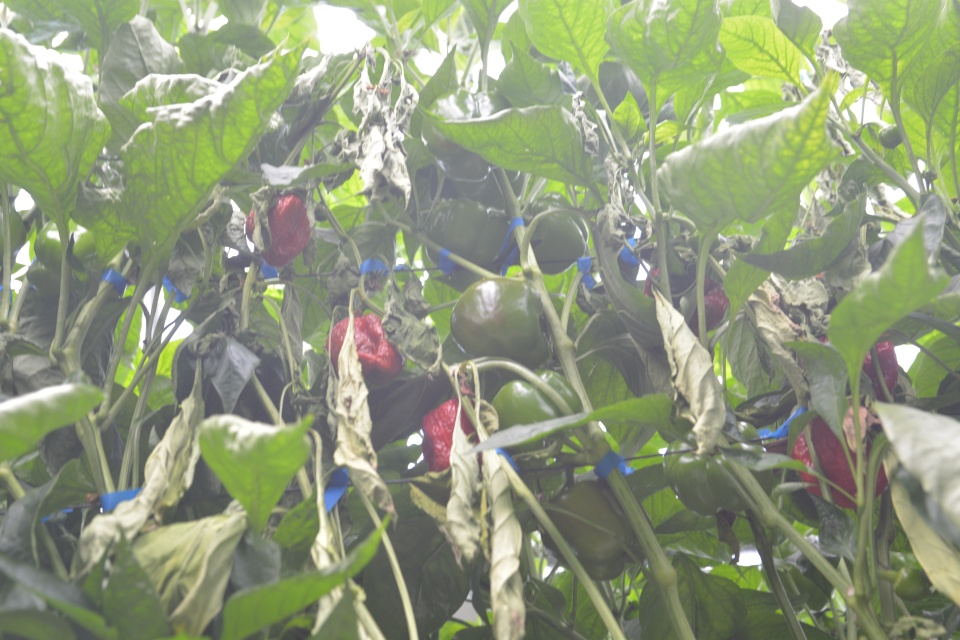fruit: (662, 417, 775, 516), (790, 398, 889, 509), (449, 274, 550, 381), (540, 476, 636, 584), (420, 87, 521, 186), (489, 367, 585, 456), (642, 259, 729, 337), (425, 194, 506, 273), (24, 214, 96, 297), (521, 189, 590, 275), (324, 311, 403, 385), (243, 192, 312, 268), (420, 394, 483, 474), (861, 339, 900, 402)
immature: (893, 563, 926, 602), (876, 119, 905, 150)
